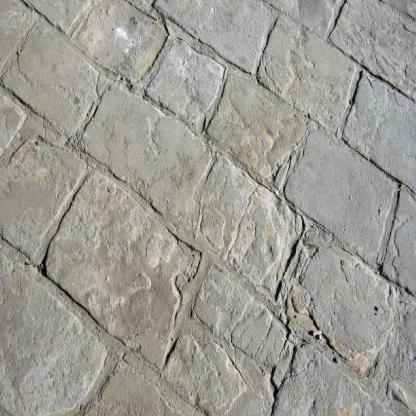Sedimentary_Sandstone: (33, 152, 198, 368), (72, 62, 214, 214), (282, 117, 398, 264), (268, 333, 414, 415)
